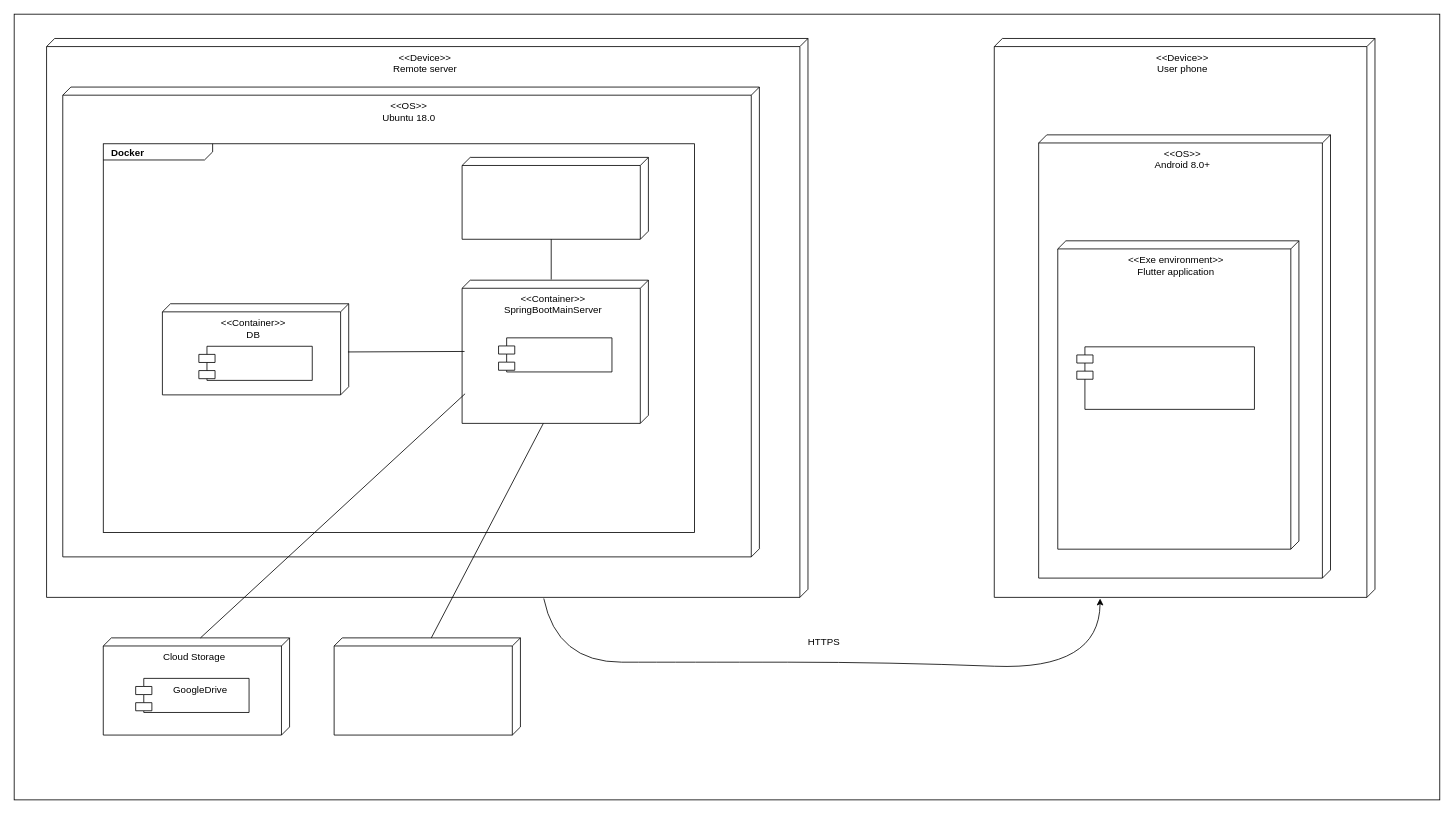
Image size: 1454x814. Some labels were removed from this diagram. Here are the shapes that lost their labels. From the top down, the centre of each, then its label:
the point at 554,198: <<Container>> Nginx web server
the point at 255,362: PostgreSQL
the point at 555,354: "source" kotlin
the point at 1165,377: Flutter
the point at 426,686: LLM API
